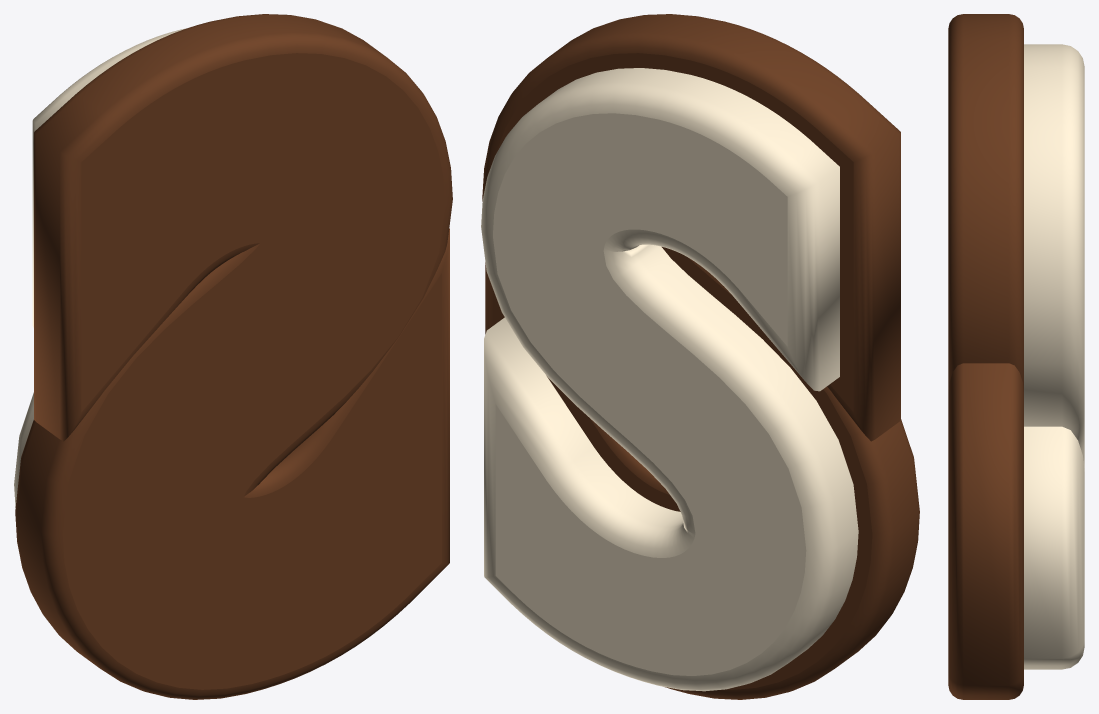
File: Letter_S.fbx
3 renders of one model, left to right at view 1: azimuth 30°, elevation 25°; view 2: azimuth 150°, elevation 25°; view 3: azimuth 270°, elevation 25°, orthographic. The views are drawn at different scales.
Parts seen in each view (by area): view 1: Letter_S; view 2: Letter_S; view 3: Letter_S.
Boxes of the visible parts, x1,y1,x2,y2 form: Letter_S: [14, 14, 452, 699]; Letter_S: [481, 14, 919, 699]; Letter_S: [948, 14, 1084, 699].
Size of the model in its own units: 0.5968 by 0.9101 by 0.18.
Materials: 1 (1 with a texture image).
